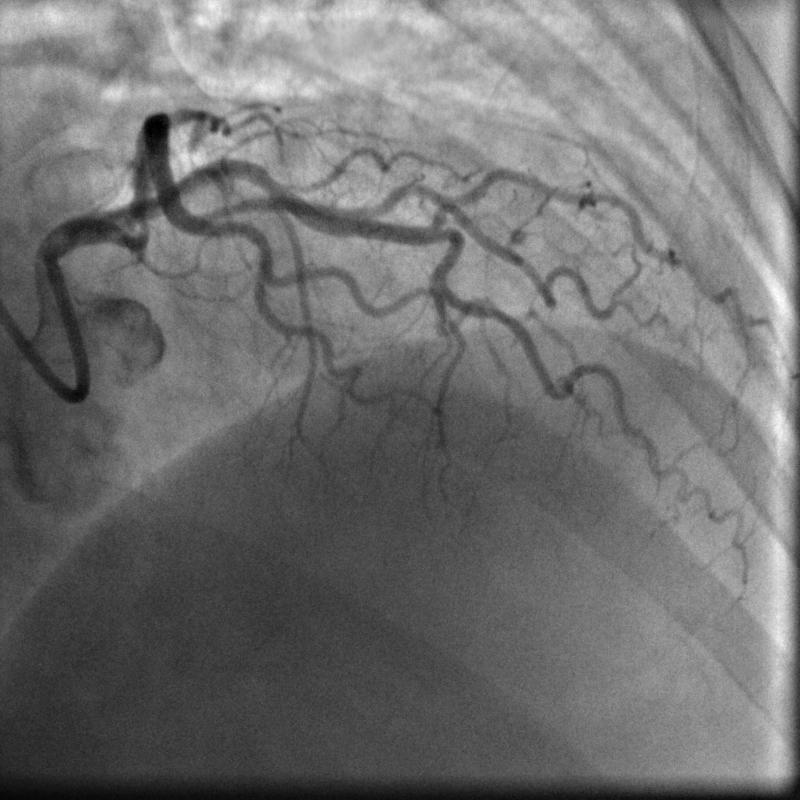Stenosis: (128, 197, 158, 251)
